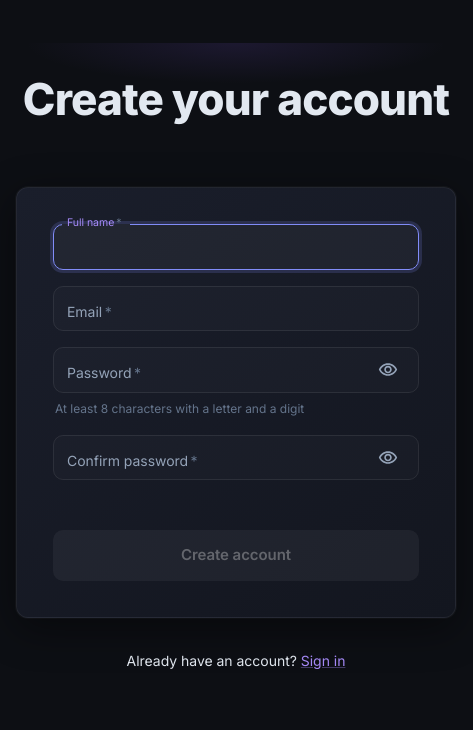
Scenario: RegisterPage › shows ApiError message when registration fails
In the field labelled "Full name *": {"x": 236, "y": 247} [53,224,419,270], type "Alice"
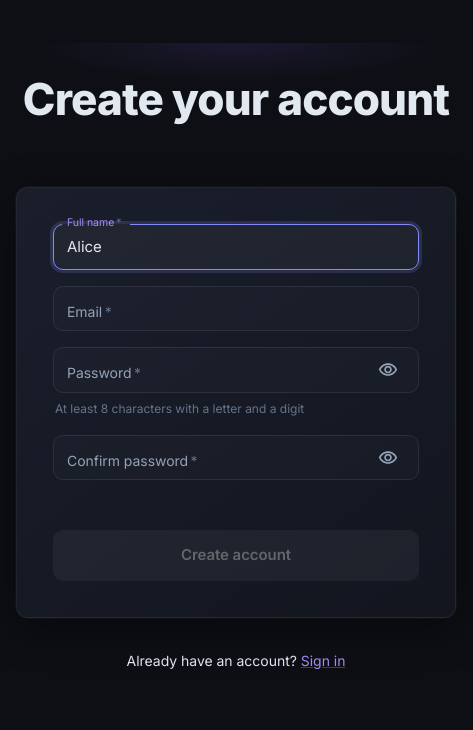
In the field labelled "Email *": {"x": 236, "y": 309} [53,286,419,331], type "alice@example.com"
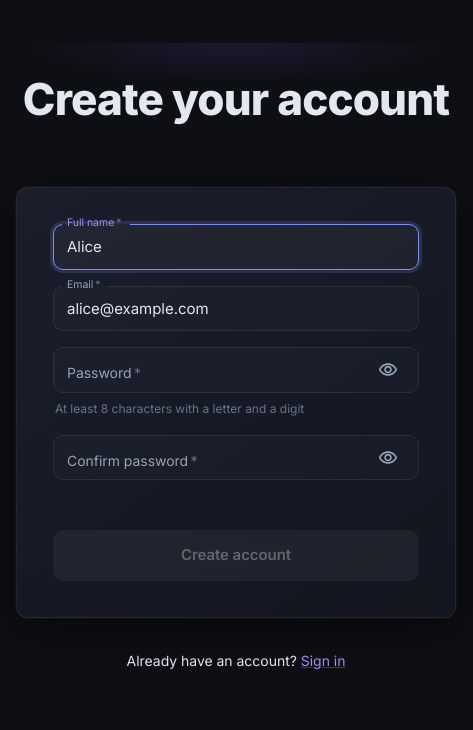
In the password field labelled "Password *": {"x": 209, "y": 370} [53,347,365,393], type "Password1!"
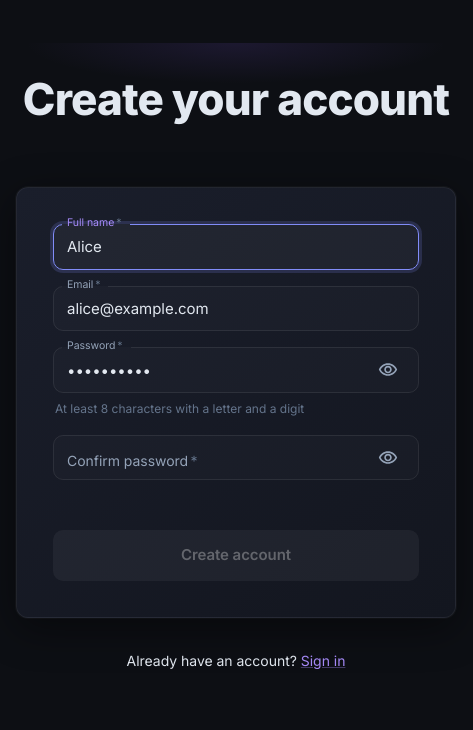
In the password field labelled "Confirm password *": {"x": 209, "y": 458} [53,435,365,480], type "Password1!"
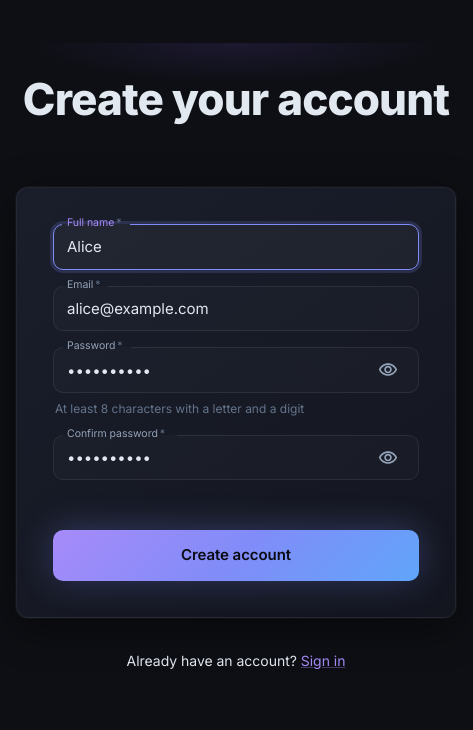
Click the button "Create account": {"x": 236, "y": 555} [53,530,419,581]
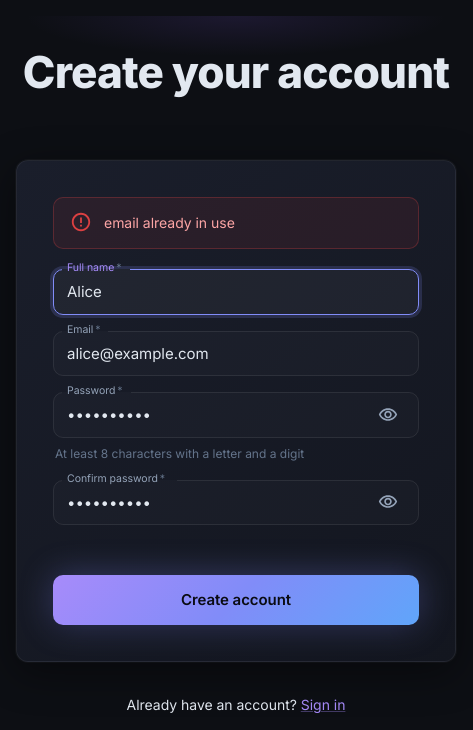
Check: the message "email already in use" is shown, box [53,197,419,249]
Check: the text "email already in use" is shown, box [104,214,235,231]
